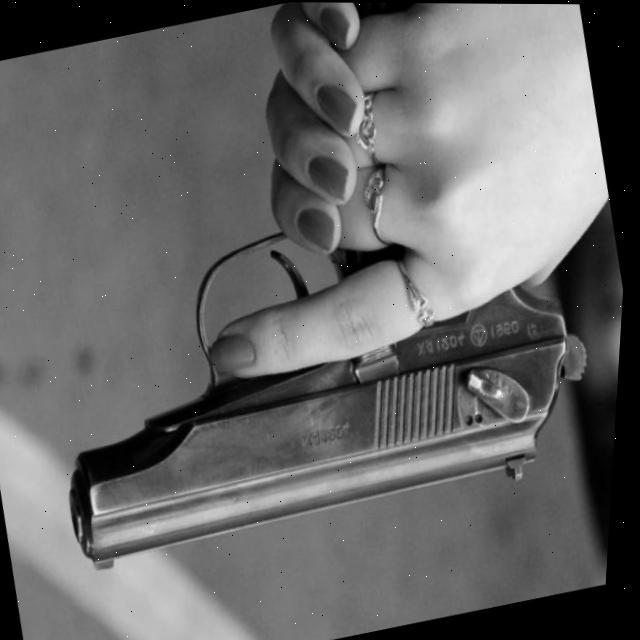pistol: (21, 167, 626, 582)
